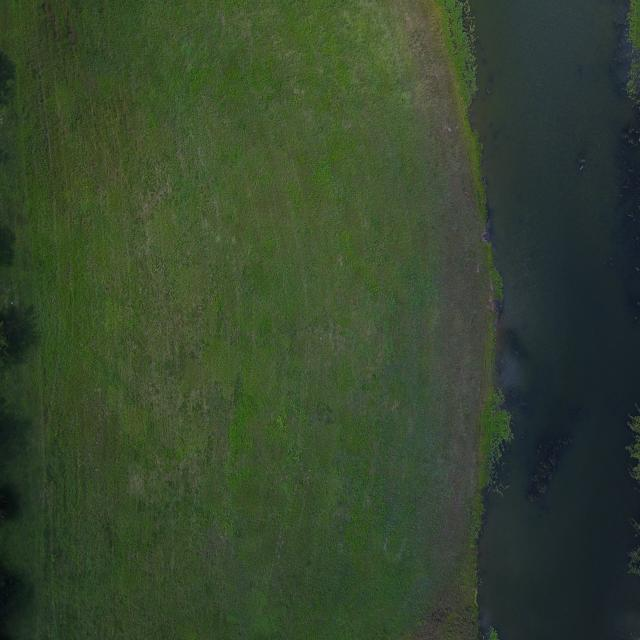fire: (471, 0, 640, 639)
